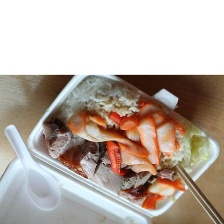foam_box: (0, 74, 224, 224)
